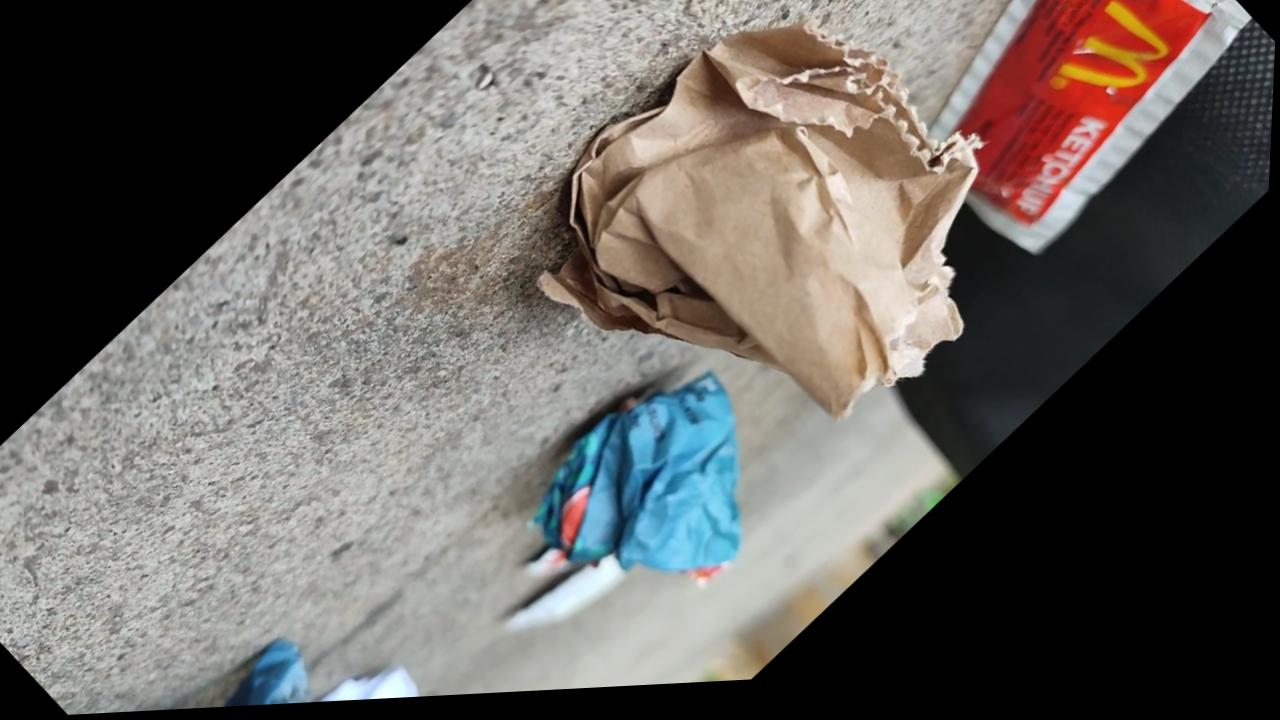paper: (540, 27, 975, 542), (502, 370, 741, 631), (225, 638, 418, 705)
